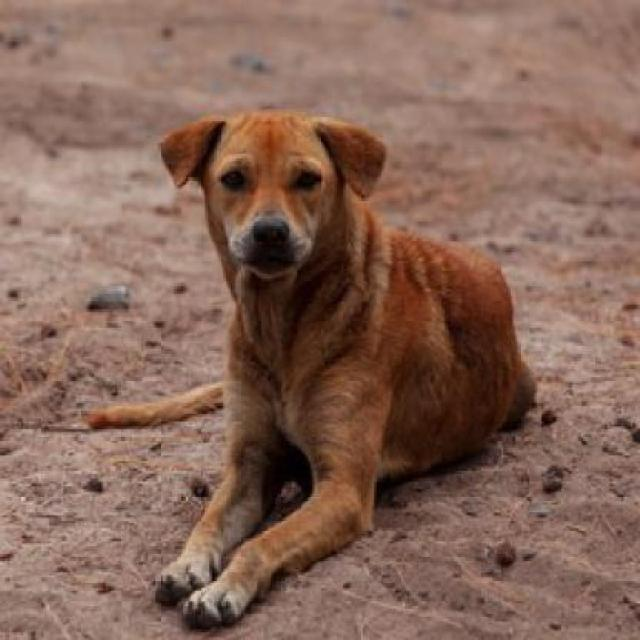dog: (159, 61, 493, 557)
